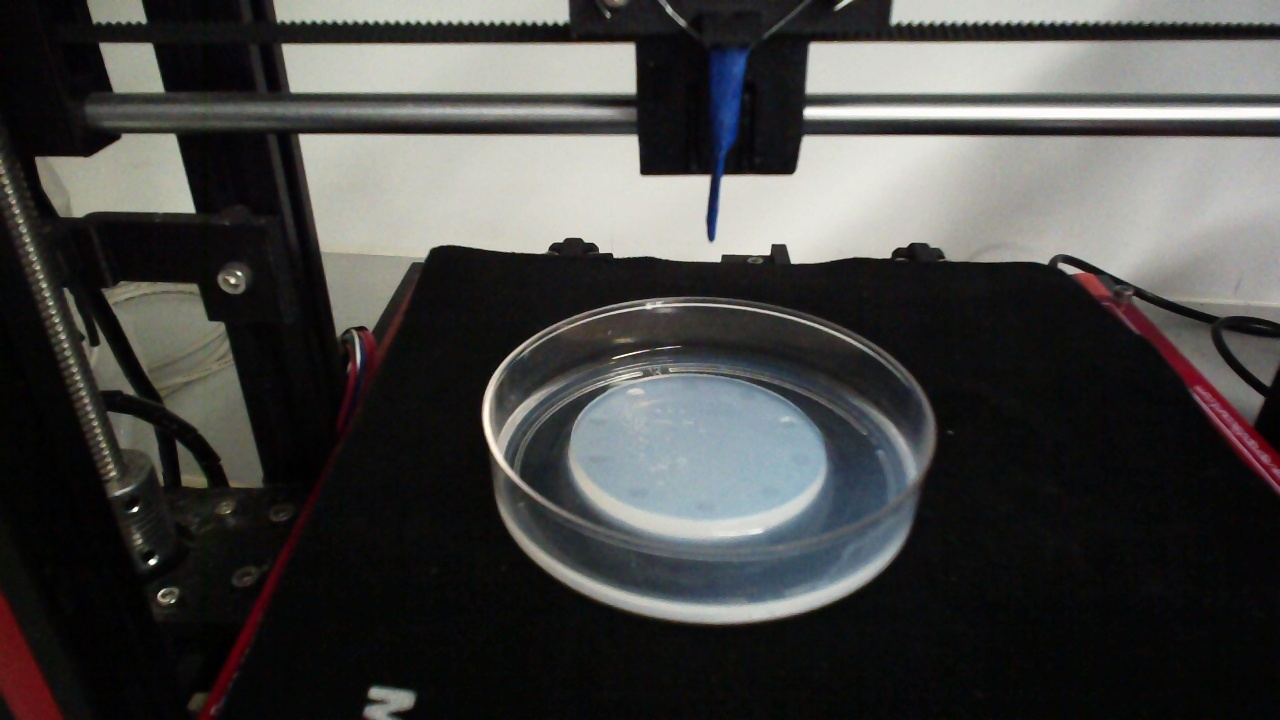groove: (692, 497, 718, 514), (756, 482, 780, 500), (736, 386, 758, 404), (789, 450, 810, 467), (628, 485, 649, 500), (777, 415, 798, 430), (679, 376, 699, 391), (587, 416, 609, 429), (587, 452, 609, 465), (625, 387, 646, 399)
needle: (706, 49, 747, 243)
